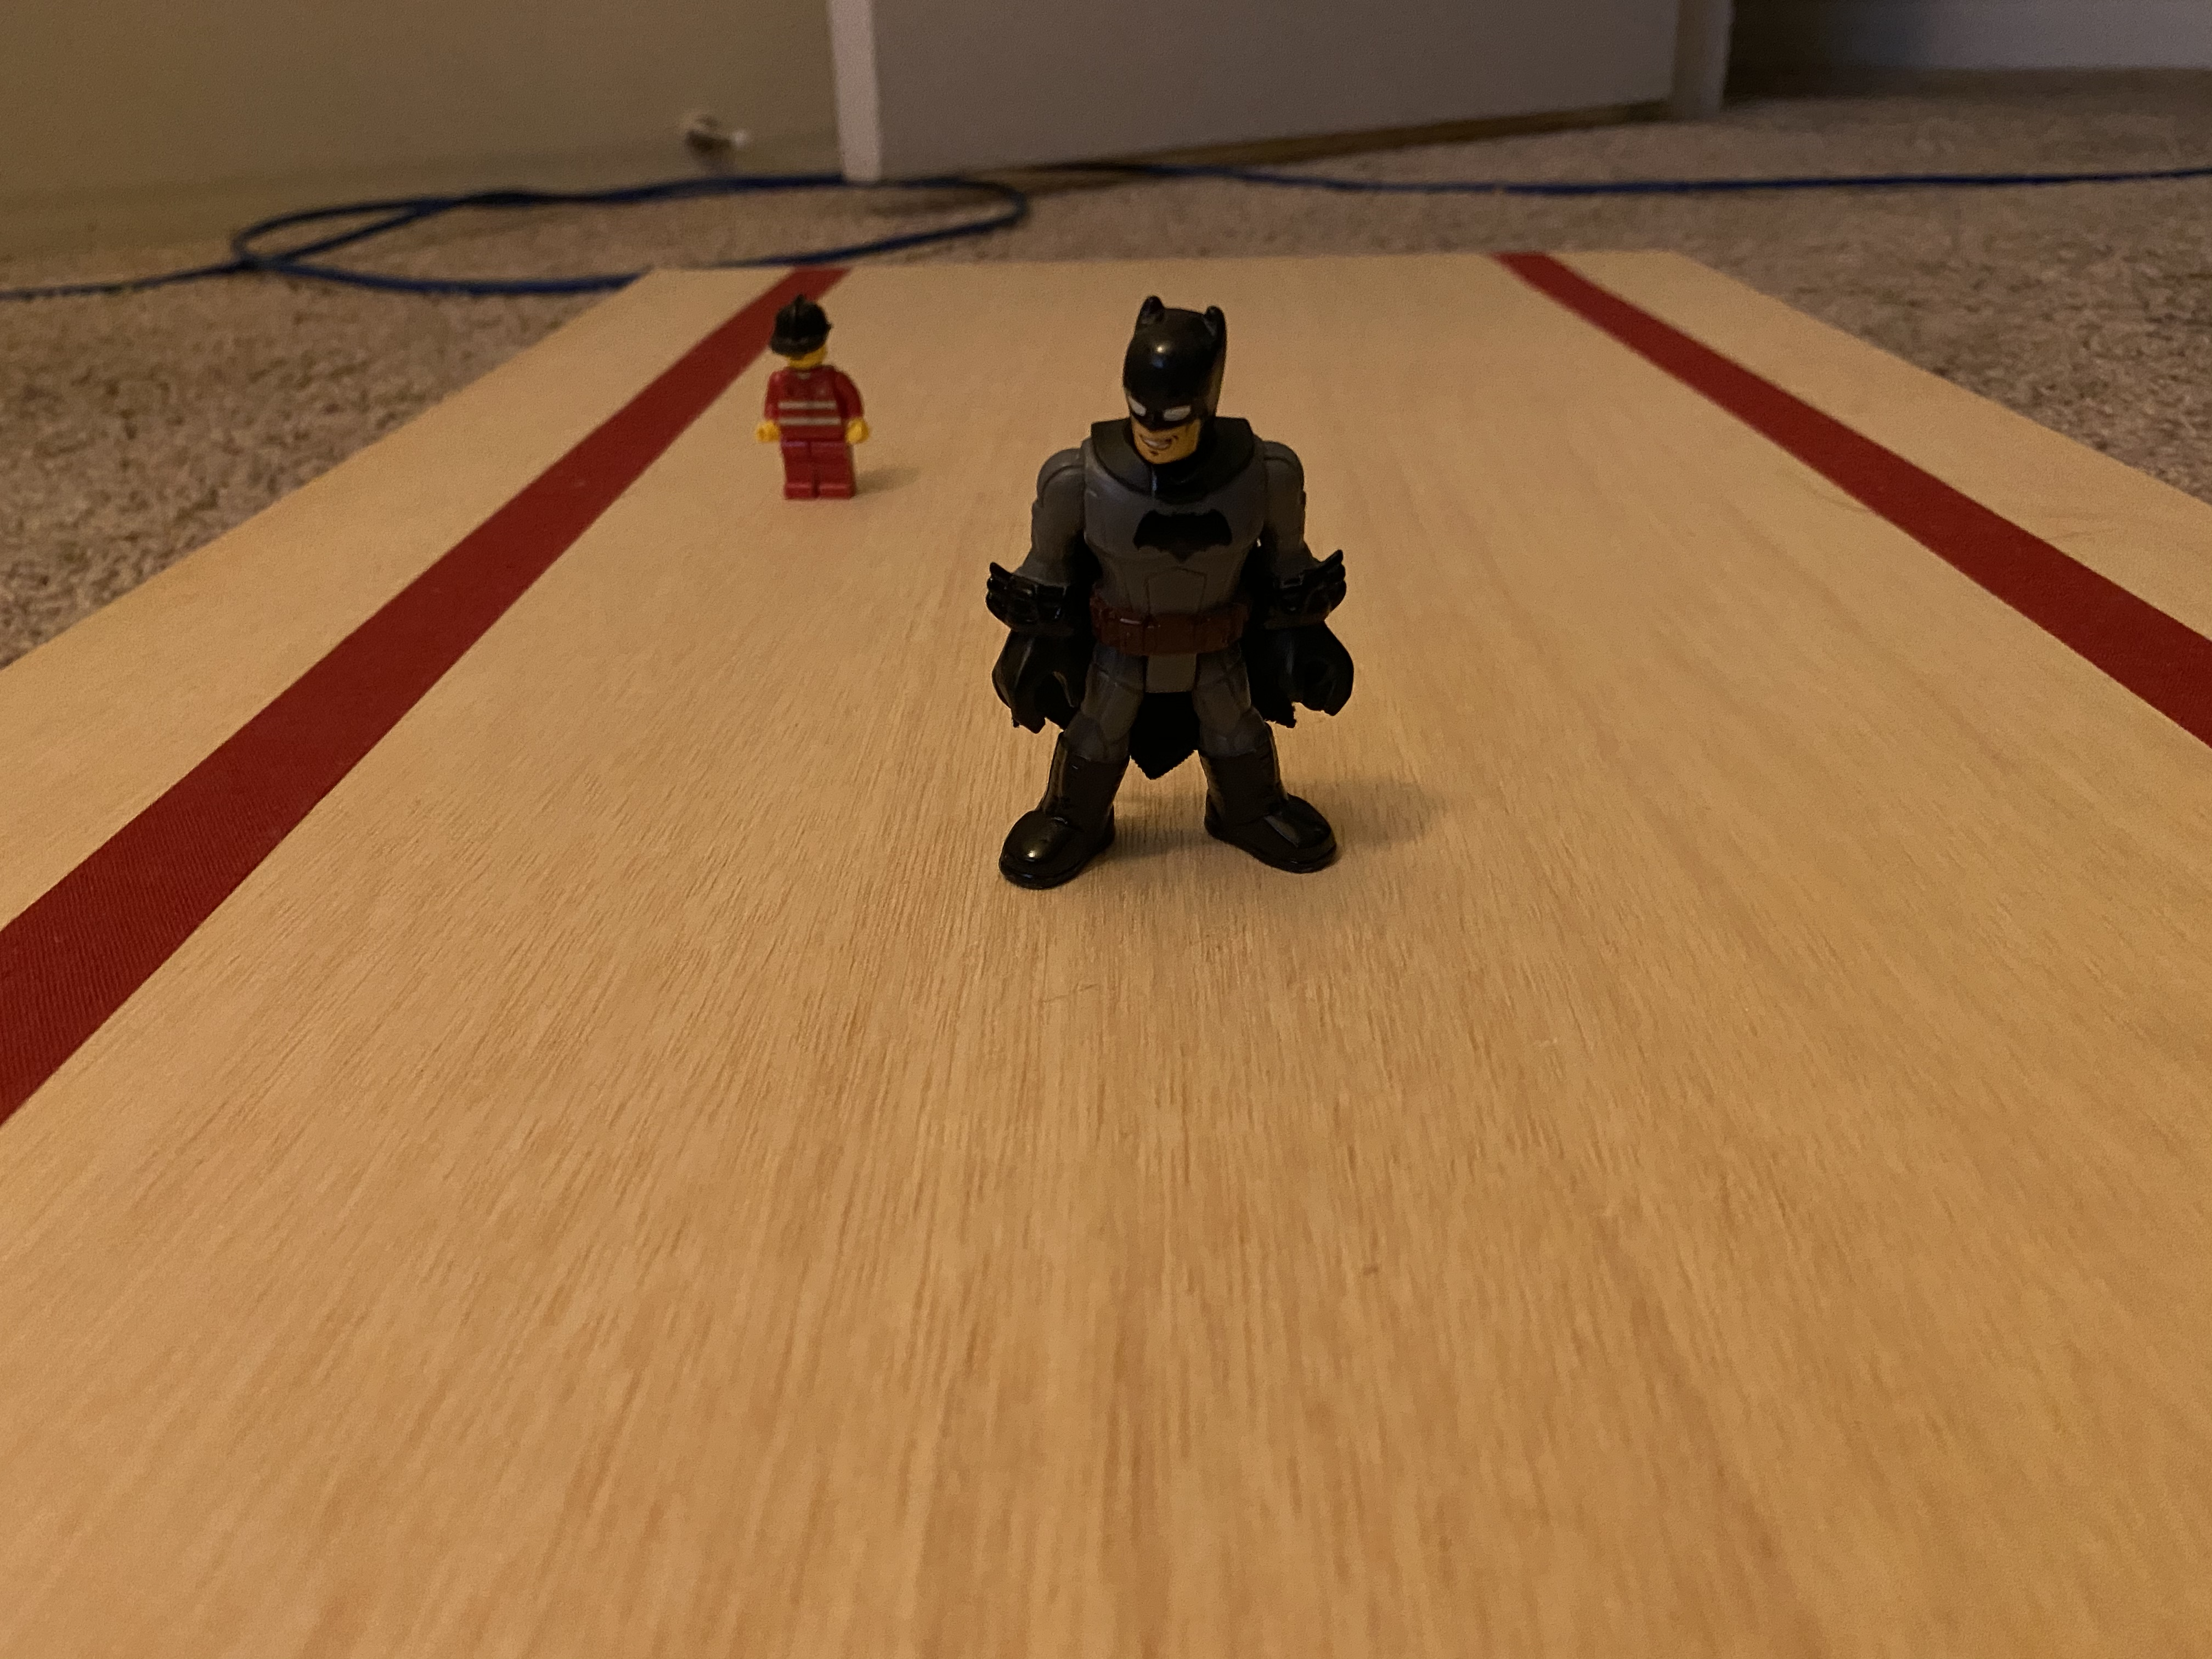Person: (951, 276, 1412, 907), (740, 295, 891, 514)
